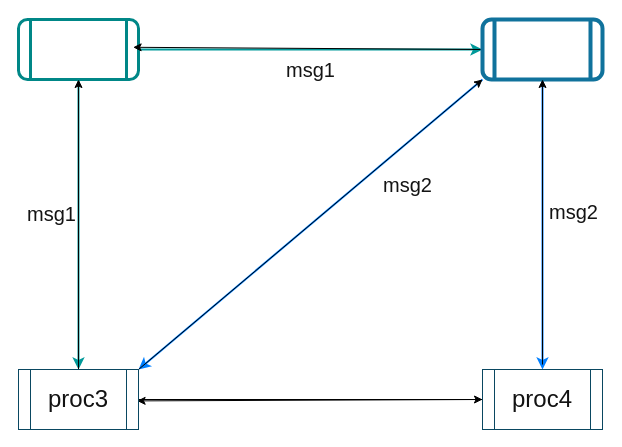
This 622x447 diagram has some shape labels left out. The shapes that lost their labels are listed below. From the top down, each one's centre as x and y in pixels, then its label:
At [78,49]: "proc1".
At [542,49]: "proc2".
